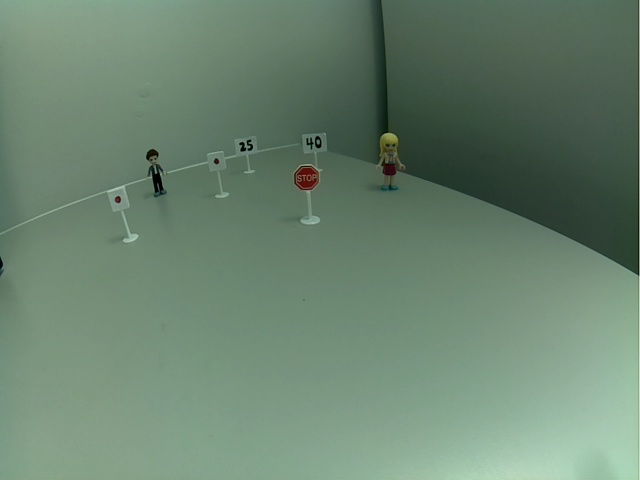people: (372, 130, 408, 193), (144, 148, 172, 199)
red light: (108, 185, 130, 215), (206, 150, 227, 174)
speed 25: (235, 136, 259, 156)
speed 40: (300, 132, 329, 154)
stop: (292, 164, 321, 193)
